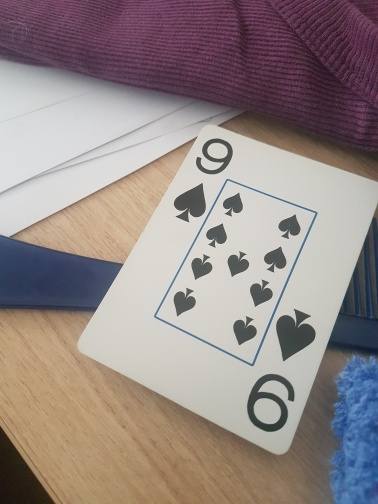nine: (77, 124, 378, 456)
